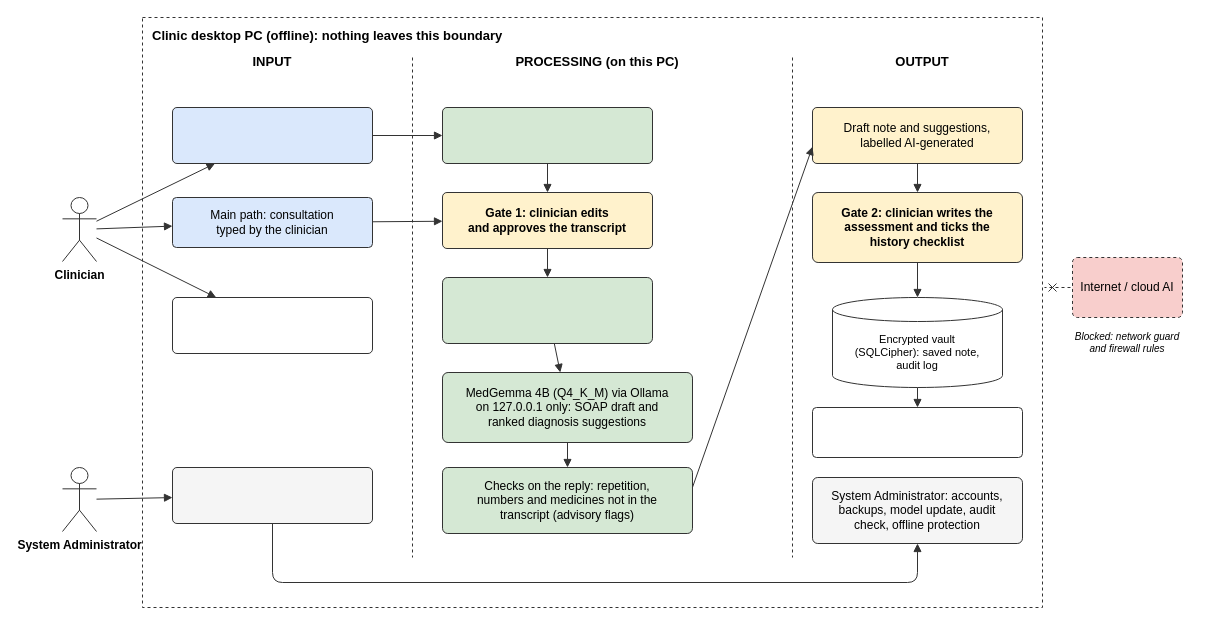
This 1214x625 diagram has some shape labels left out. Here are the shapes that lost their labels. From the top down, the box of each, then its label:
(172, 106, 372, 164): Beta: dictation from the microphone (kept in memory)
(442, 106, 652, 164): Speech-to-text (beta) Faster-Whisper small (int8)
(172, 296, 372, 354): Log in (password, roles, lockout, 10-min idle lock)
(442, 276, 652, 344): Input check (instructions aimed at the AI, phone and ID numbers masked)
(812, 406, 1022, 458): PDF of one note; facility reports for clinicians (charts, counts only)
(172, 466, 372, 524): USB drive: model bundle, backup file
